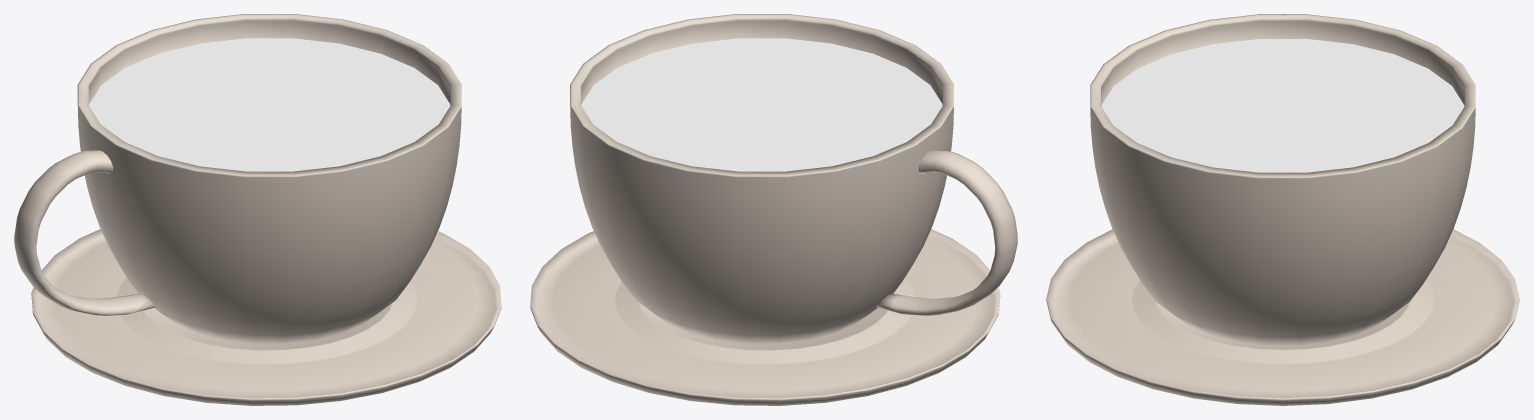
Rendered from Cup milk.fbx.
3 views of the same model, side by side, from view 1: azimuth 30°, elevation 25°; view 2: azimuth 150°, elevation 25°; view 3: azimuth 270°, elevation 25° (orthographic).
Visible parts, largest first — view 1: Cup, Plate, Handle; view 2: Cup, Plate, Handle; view 3: Cup, Plate.
Boxes of the visible parts, x1,y1,x2,y2 form: Cup: (77,14,461,343); Plate: (31,229,501,405); Handle: (14,150,155,315); Cup: (570,14,953,343); Plate: (530,229,1000,405); Handle: (876,150,1017,315); Cup: (1090,14,1475,345); Plate: (1046,229,1519,405).
Size of the model in its own units: 443 by 203 by 400.
